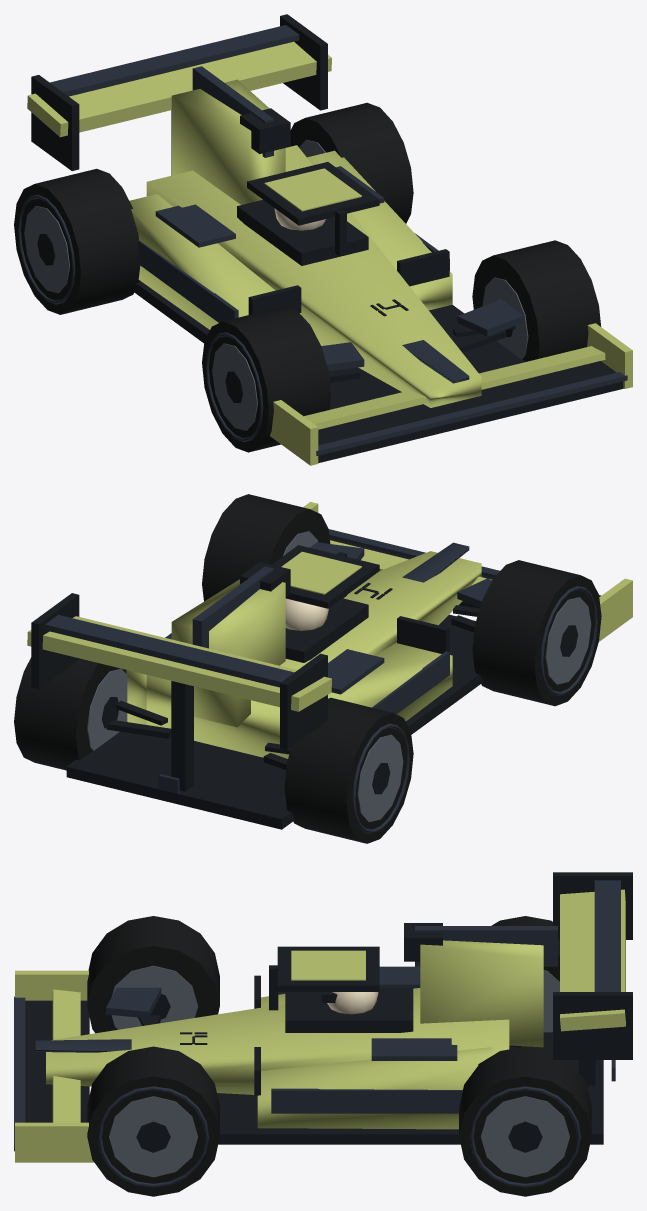
The model's file is kestrel-14.glb.
The picture shows the model from 3 angles, top to bottom: view 1: azimuth 30°, elevation 25°; view 2: azimuth 150°, elevation 25°; view 3: azimuth 270°, elevation 25°; orthographic projection.
Visible parts, largest first — view 1: formula-14, wheel (×4); view 2: formula-14, wheel (×4); view 3: formula-14, wheel (×4).
Boxes of the visible parts, x1,y1,x2,y2 form: formula-14: (27, 14, 632, 465); wheel (×4): (14, 102, 601, 452); formula-14: (27, 502, 632, 829); wheel (×4): (14, 494, 601, 843); formula-14: (14, 872, 632, 1162); wheel (×4): (87, 916, 591, 1196).
Size of the model in its own units: 3.37 by 1.82 by 5.41.
